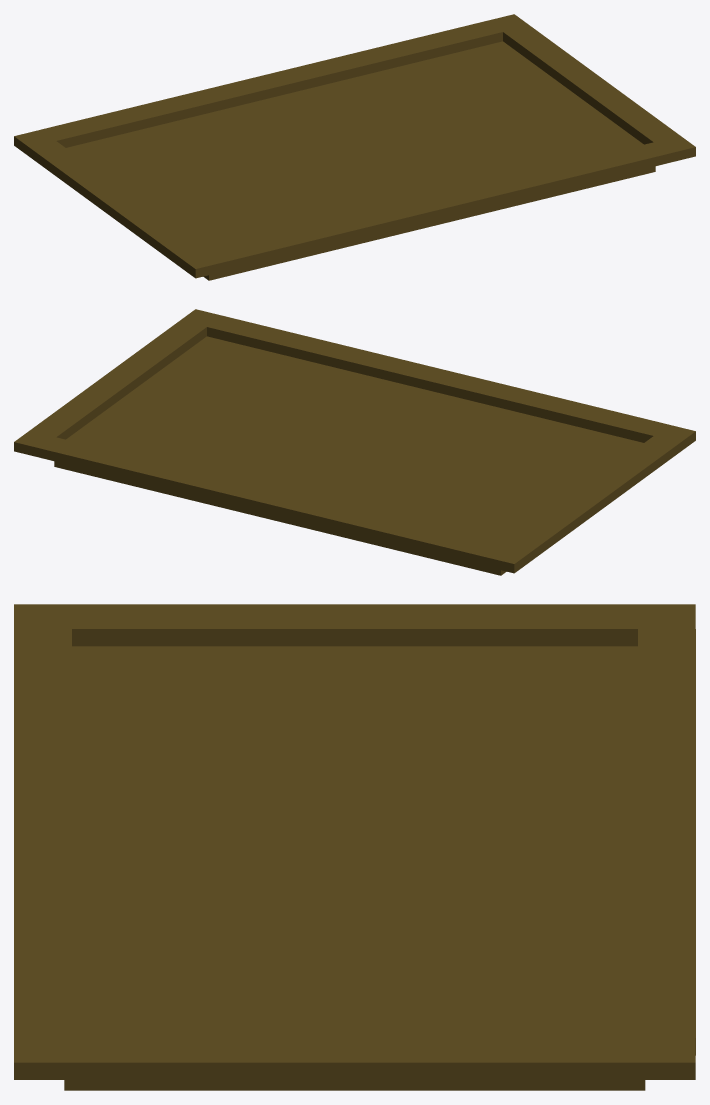
The model's file is FoodBrick.fbx.
The picture shows the model from 3 angles, top to bottom: view 1: azimuth 30°, elevation 25°; view 2: azimuth 150°, elevation 25°; view 3: azimuth 270°, elevation 25°; orthographic projection. The views are drawn at different scales.
Parts seen in each view (by area): view 1: pCube1, pCube2, pCube3, pCube4, pCube5; view 2: pCube1, pCube3, pCube2, pCube4, pCube5; view 3: pCube1, pCube5, pCube4, pCube3, pCube2.
Boxes of the visible parts, <box> form: pCube1: <box>66,41,655,280</box>; pCube2: <box>207,142,669,271</box>; pCube3: <box>41,20,502,147</box>; pCube4: <box>14,129,222,278</box>; pCube5: <box>488,14,695,162</box>; pCube1: <box>54,336,643,575</box>; pCube3: <box>40,437,502,566</box>; pCube2: <box>207,315,668,442</box>; pCube4: <box>487,424,695,573</box>; pCube5: <box>14,309,221,457</box>; pCube1: <box>64,646,645,1090</box>; pCube5: <box>14,1038,695,1079</box>; pCube4: <box>14,604,695,646</box>; pCube3: <box>638,629,695,1055</box>; pCube2: <box>14,629,71,1037</box>.
Bounding box in the file's own units: 5.6 × 0.3 × 3.52.
